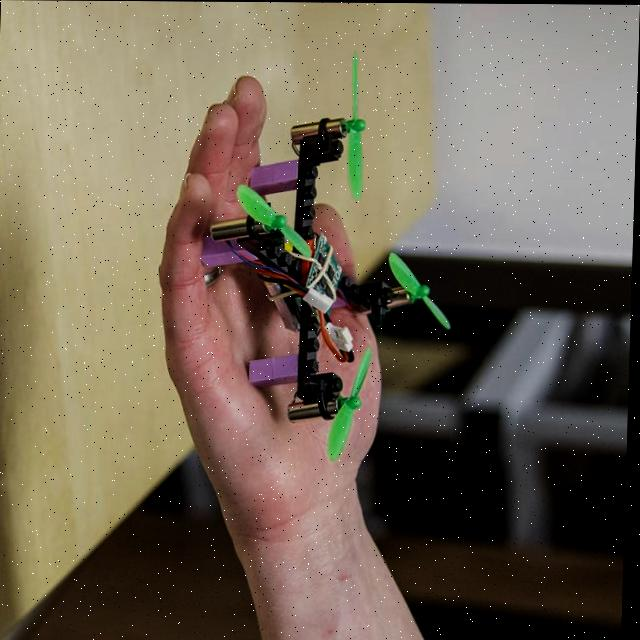drone: (187, 42, 473, 470)
